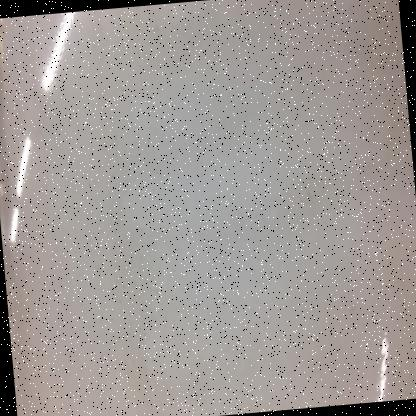Nocrack: (0, 0, 412, 401)
